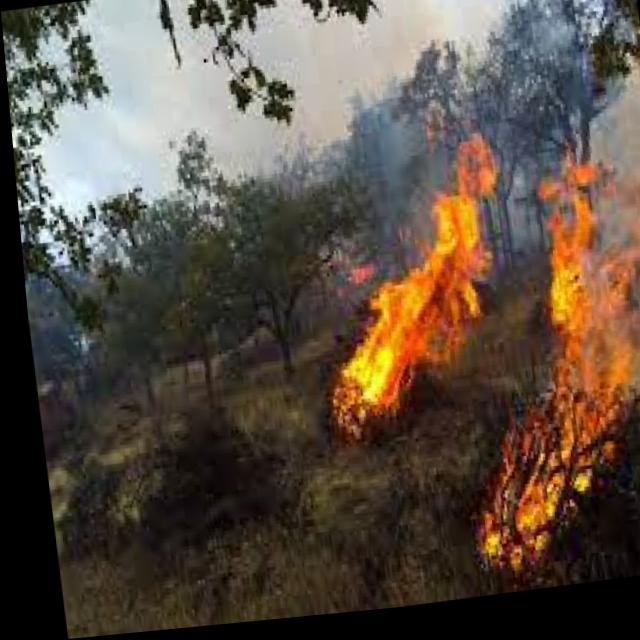Fire: (269, 86, 640, 620)
